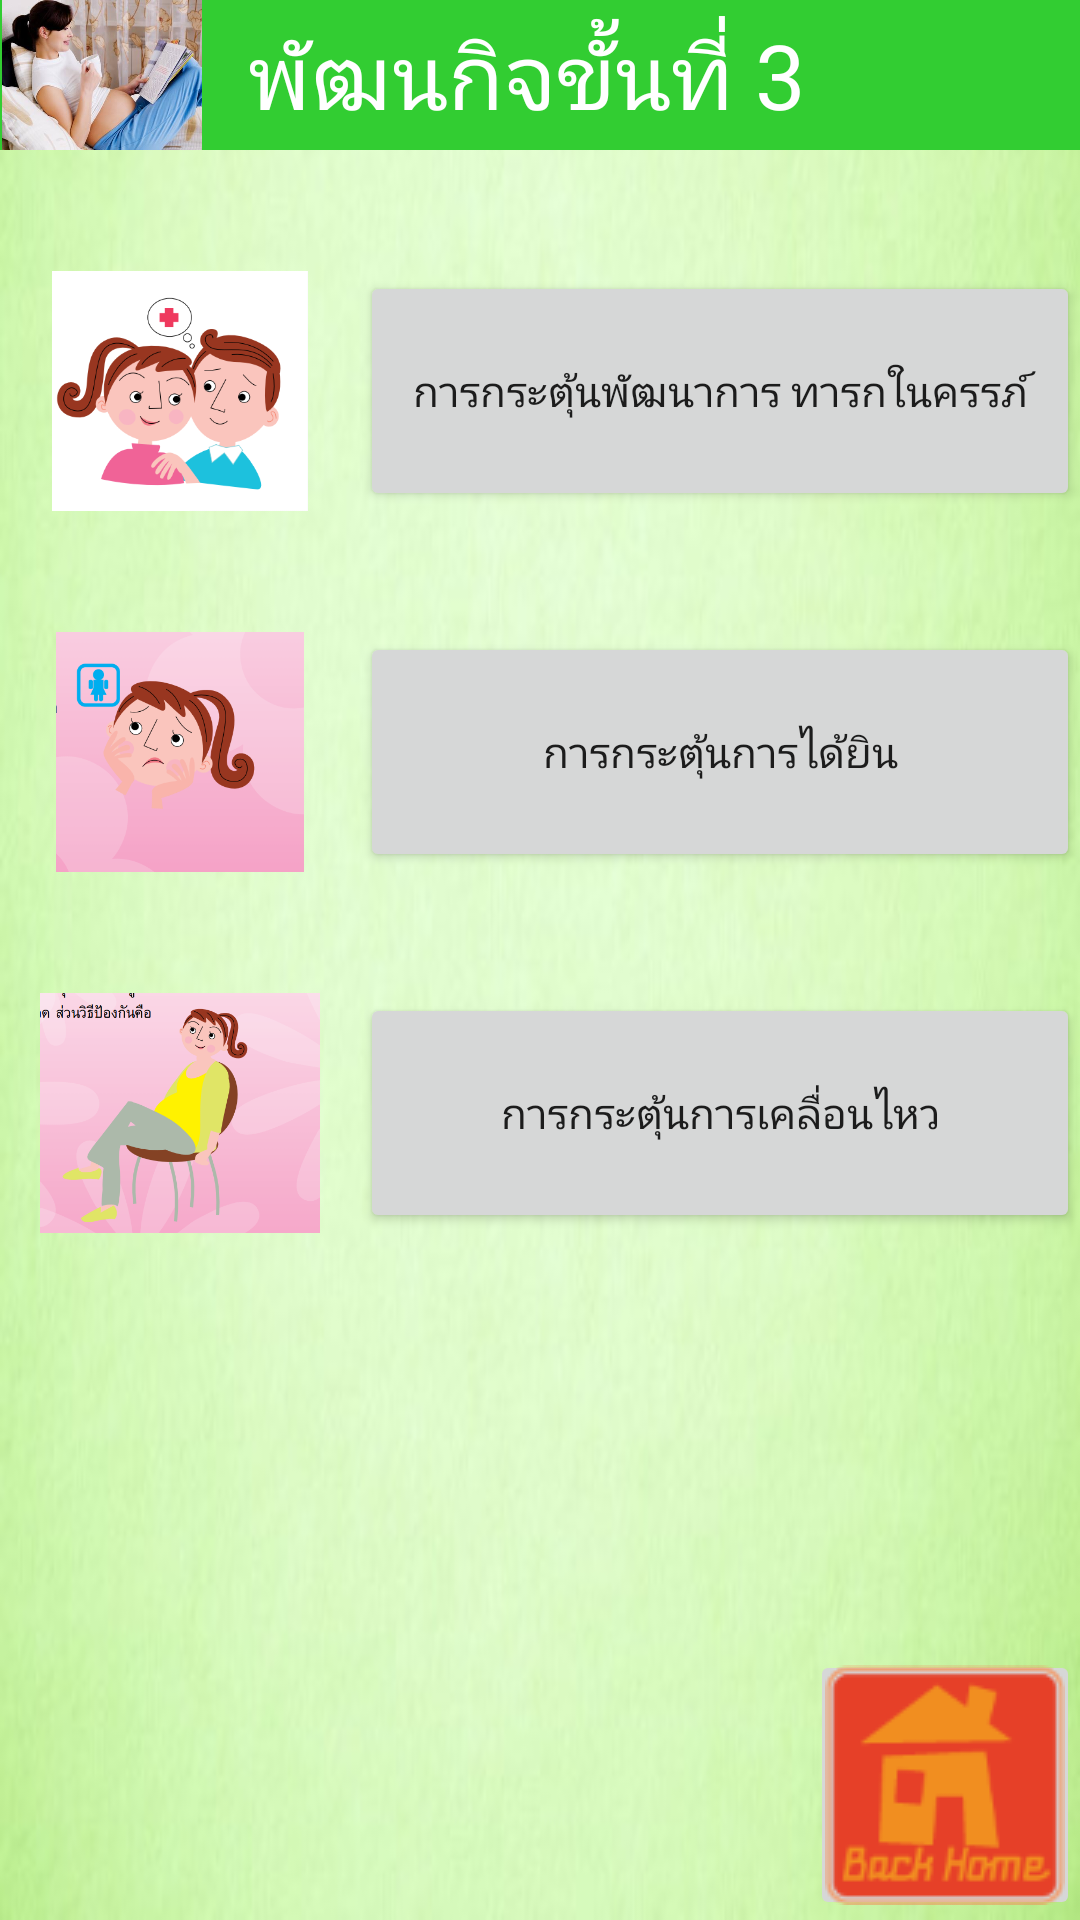

Icon click points for this 1080 x 1920 phone screenshot, format [x,y]:
mom: [102,75]
